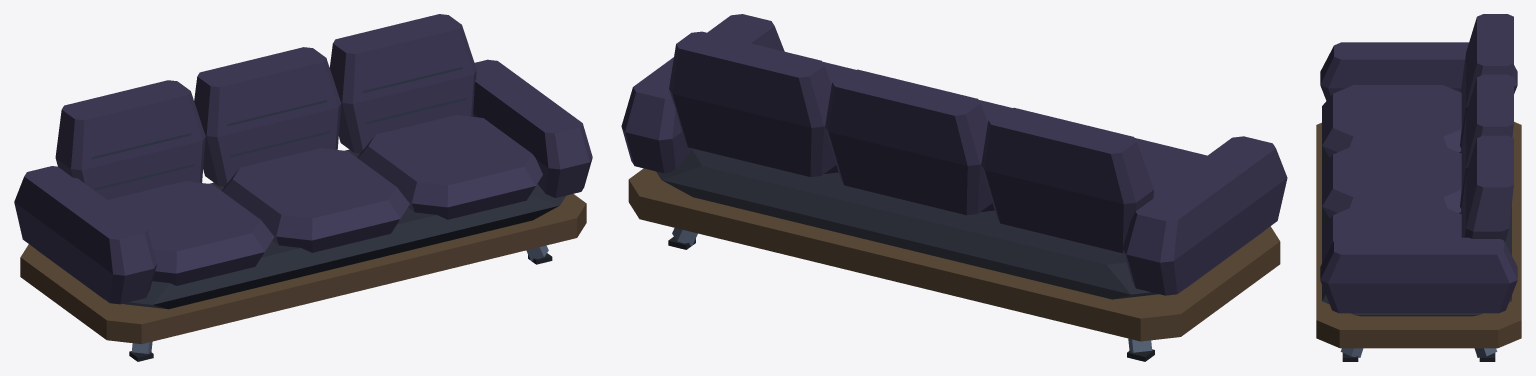
The model's file is off_lounge_sofa.glb.
3 views of the same model, side by side, from view 1: azimuth 30°, elevation 25°; view 2: azimuth 150°, elevation 25°; view 3: azimuth 270°, elevation 25° (orthographic). The views are drawn at different scales.
Visible parts, largest first — view 1: bolster, walnut_rail, seat_deck, welt; view 2: bolster, walnut_rail, seat_deck, splayed_foot; view 3: bolster, walnut_rail, seat_deck, splayed_foot, glide.
Part boxes in pixels (x1,y1,x2,y2): bolster: (14, 14, 592, 304); walnut_rail: (20, 194, 586, 344); seat_deck: (36, 149, 565, 309); welt: (91, 67, 465, 190); bolster: (621, 14, 1287, 295); walnut_rail: (628, 168, 1280, 341); seat_deck: (656, 148, 1263, 299); splayed_foot: (672, 228, 1152, 352); bolster: (1320, 14, 1517, 313); walnut_rail: (1316, 122, 1521, 348); seat_deck: (1322, 146, 1511, 316); splayed_foot: (1340, 348, 1497, 357); glide: (1342, 353, 1495, 361).
Size of the model in its own units: 2.6 by 0.95 by 1.05.
